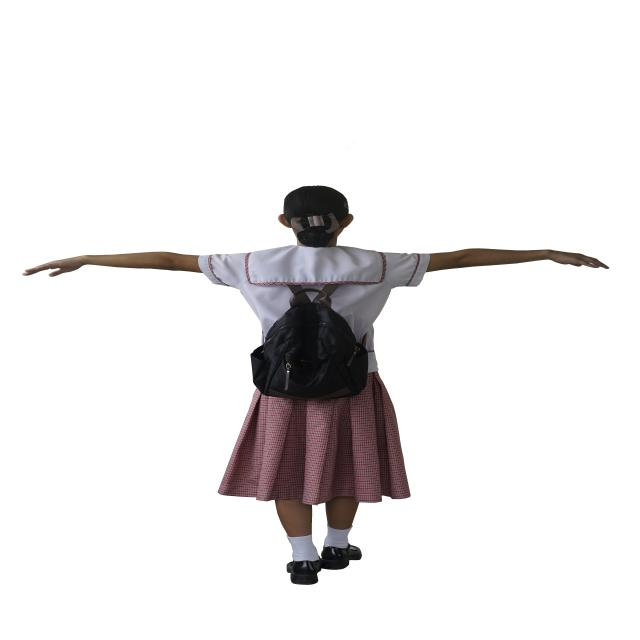pologirl: (198, 245, 430, 338)
shoes: (287, 545, 361, 585)
skirt: (219, 372, 410, 505)
